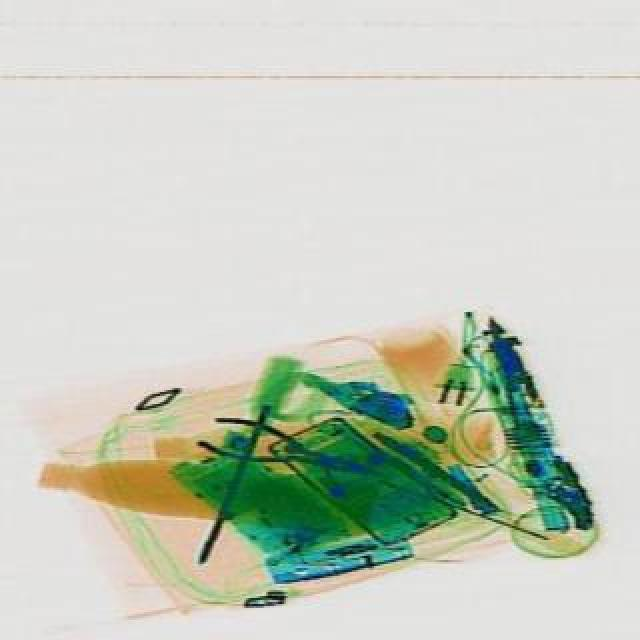wrench: (190, 406, 386, 490)
